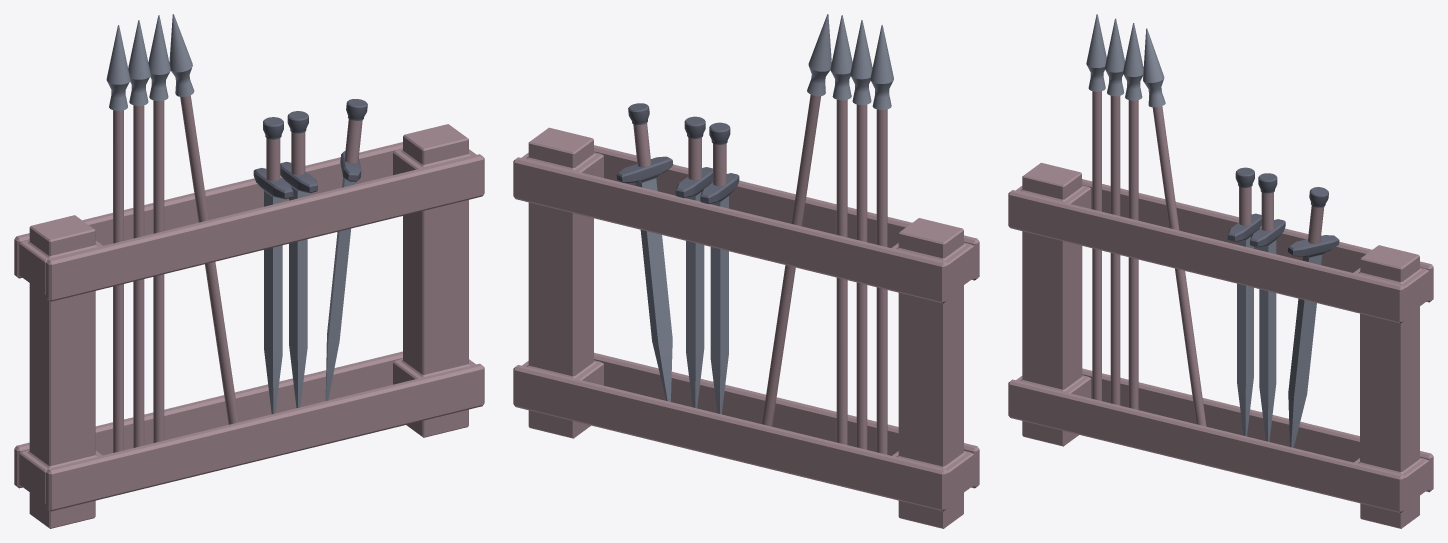
Rendered from weapon_rack_v2.fbx.
3 views of the same model, side by side, from view 1: azimuth 30°, elevation 25°; view 2: azimuth 150°, elevation 25°; view 3: azimuth 330°, elevation 25° (orthographic). The views are drawn at different scales.
Parts seen in each view (by area): view 1: weapon_rack; view 2: weapon_rack; view 3: weapon_rack.
Boxes of the visible parts, x1,y1,x2,y2 form: weapon_rack: [14, 14, 484, 528]; weapon_rack: [513, 14, 979, 528]; weapon_rack: [1008, 14, 1433, 528].
Bounding box in the file's own units: 9.34 × 9.84 × 1.37.
